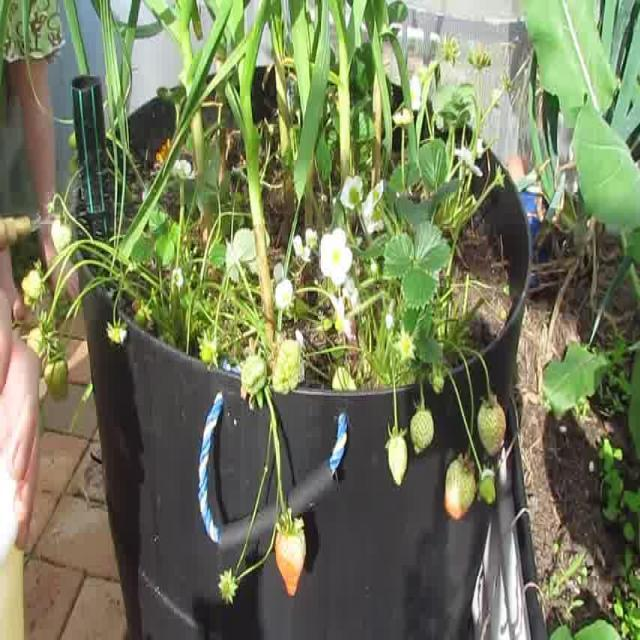Fruta sana: (444, 454, 476, 518), (477, 392, 506, 457), (272, 339, 302, 394), (44, 342, 68, 401), (26, 316, 54, 360), (240, 354, 268, 394), (21, 257, 47, 300), (410, 408, 434, 452), (50, 212, 72, 255), (330, 364, 358, 390), (220, 568, 238, 606), (478, 470, 497, 506), (132, 300, 152, 327), (24, 280, 41, 308), (68, 128, 80, 150), (432, 373, 443, 394), (69, 156, 80, 177), (322, 317, 332, 332)
Moho gris: (388, 426, 408, 486)
Oído: (274, 516, 306, 596)
